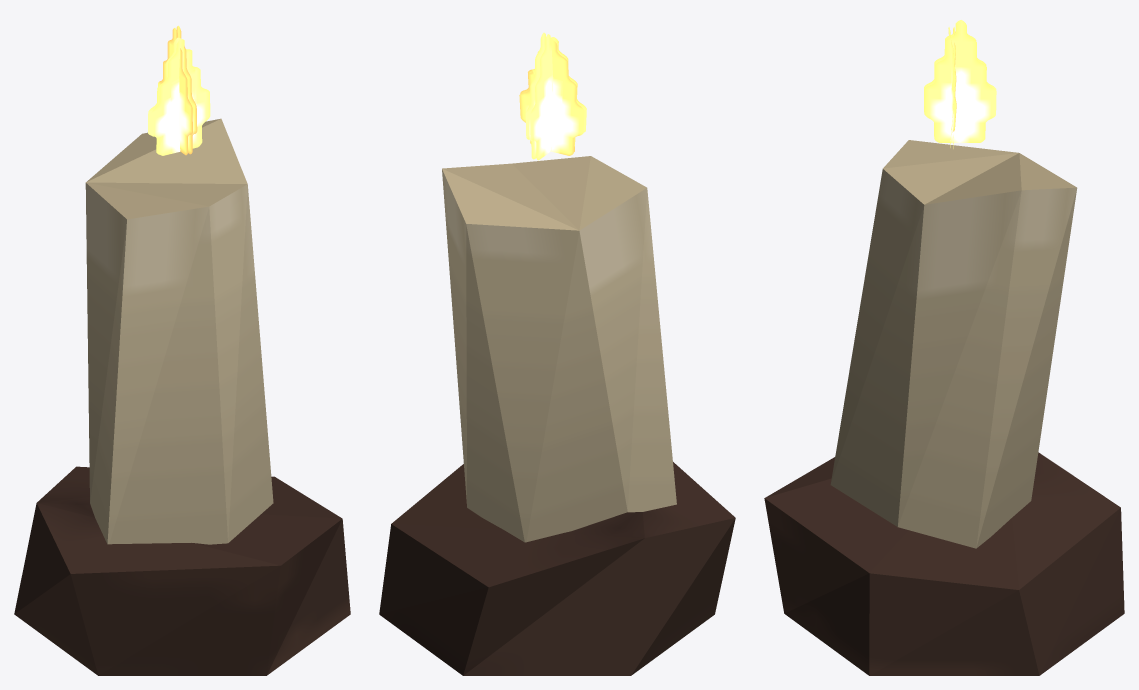
Rendered from SM_Candle.fbx.
3 renders of one model, left to right at view 1: azimuth 30°, elevation 25°; view 2: azimuth 150°, elevation 25°; view 3: azimuth 270°, elevation 25°, orthographic.
Visible parts, largest first — view 1: Candle_Visual, Candle_Flame; view 2: Candle_Visual, Candle_Flame; view 3: Candle_Visual, Candle_Flame.
Part boxes in pixels (<box>): Candle_Visual: <box>14,118,350,675</box>; Candle_Flame: <box>148,25,210,155</box>; Candle_Visual: <box>379,156,735,675</box>; Candle_Flame: <box>519,32,586,160</box>; Candle_Visual: <box>764,140,1124,675</box>; Candle_Flame: <box>924,20,996,148</box>.
Bounding box in the file's own units: 0.0949 × 0.1928 × 0.1058.
